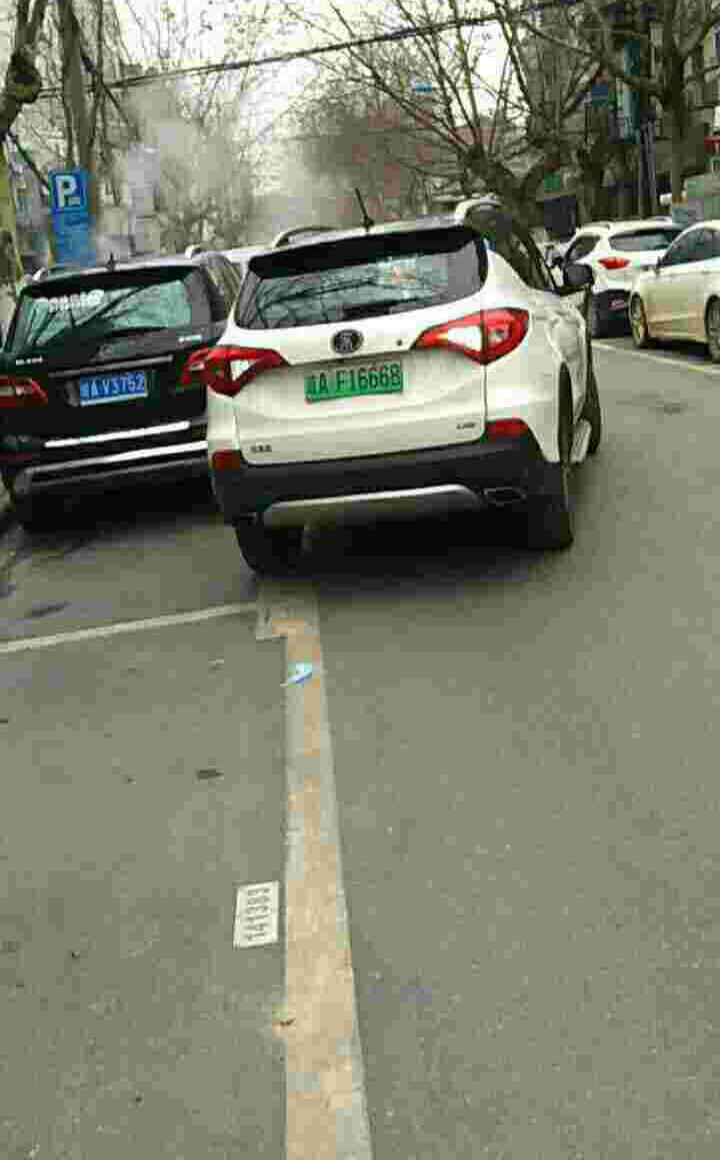car_id: (303, 357, 402, 399)
